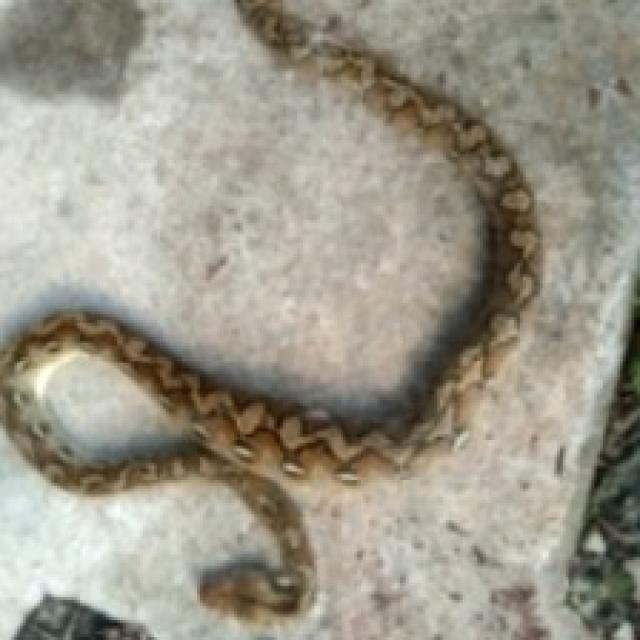reticulated python: (0, 0, 539, 622)
